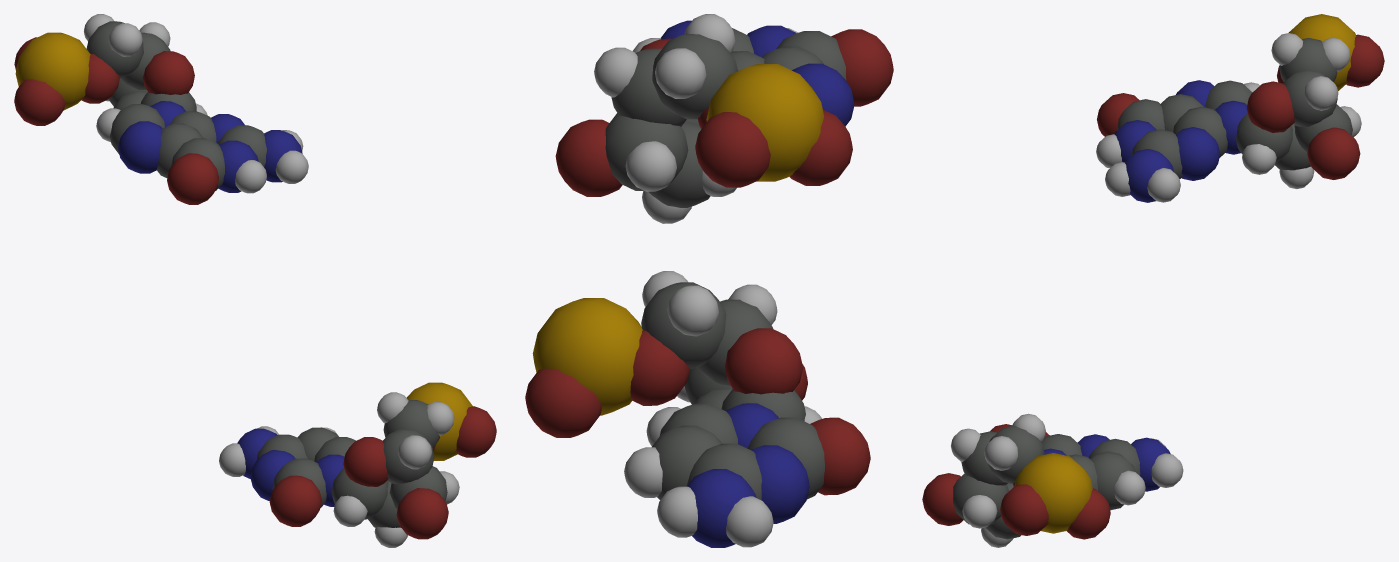
File: dna_chainB_8_12.obj
3 views of the same model, side by side, from view 1: azimuth 30°, elevation 25°; view 2: azimuth 150°, elevation 25°; view 3: azimuth 270°, elevation 25° (orthographic). The views are drawn at different scales.
Visible parts, largest first — view 1: vmd_mol0_rep1, vmd_mol0_rep3, vmd_mol0_rep5; view 2: vmd_mol0_rep1, vmd_mol0_rep3, vmd_mol0_rep5; view 3: vmd_mol0_rep1, vmd_mol0_rep3, vmd_mol0_rep5.
Boxes of the visible parts, x1=… form: vmd_mol0_rep1: x1=14, y1=21, x2=496, y2=539; vmd_mol0_rep3: x1=84, y1=14, x2=459, y2=547; vmd_mol0_rep5: x1=15, y1=32, x2=472, y2=460; vmd_mol0_rep1: x1=525, y1=20, x2=893, y2=547; vmd_mol0_rep3: x1=594, y1=14, x2=821, y2=547; vmd_mol0_rep5: x1=532, y1=64, x2=823, y2=415; vmd_mol0_rep1: x1=922, y1=34, x2=1384, y2=539; vmd_mol0_rep3: x1=951, y1=33, x2=1361, y2=547; vmd_mol0_rep5: x1=1014, y1=14, x2=1356, y2=533.
Size of the model in its own units: 0.3978 by 0.5022 by 0.4662.
